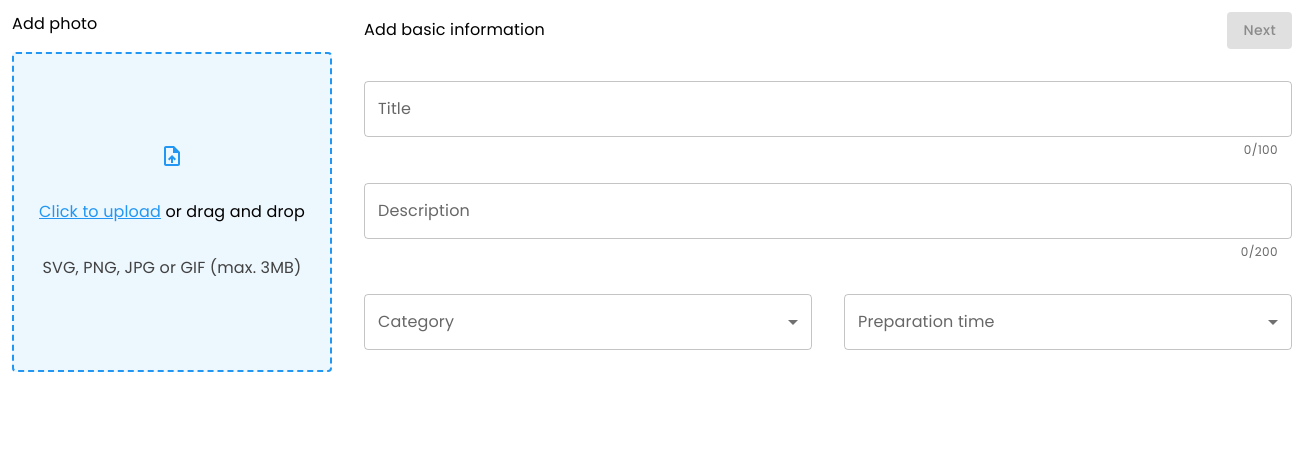
Test: BasicInformation Component › should render categories in the Category select input
The width and height of the screenshot is (1304, 468).
Click the dropdown next to "Category": (588, 322) [364,294,812,350]
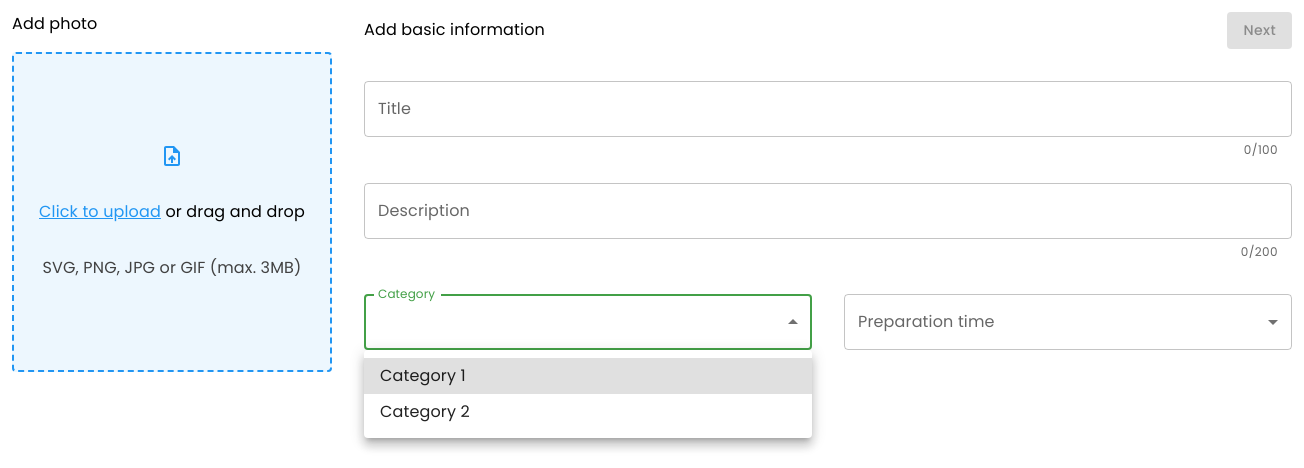
Expected: the option "Category 1" is shown, [364,358,812,394]
Expected: the option "Category 2" is shown, [380,400,470,423]
